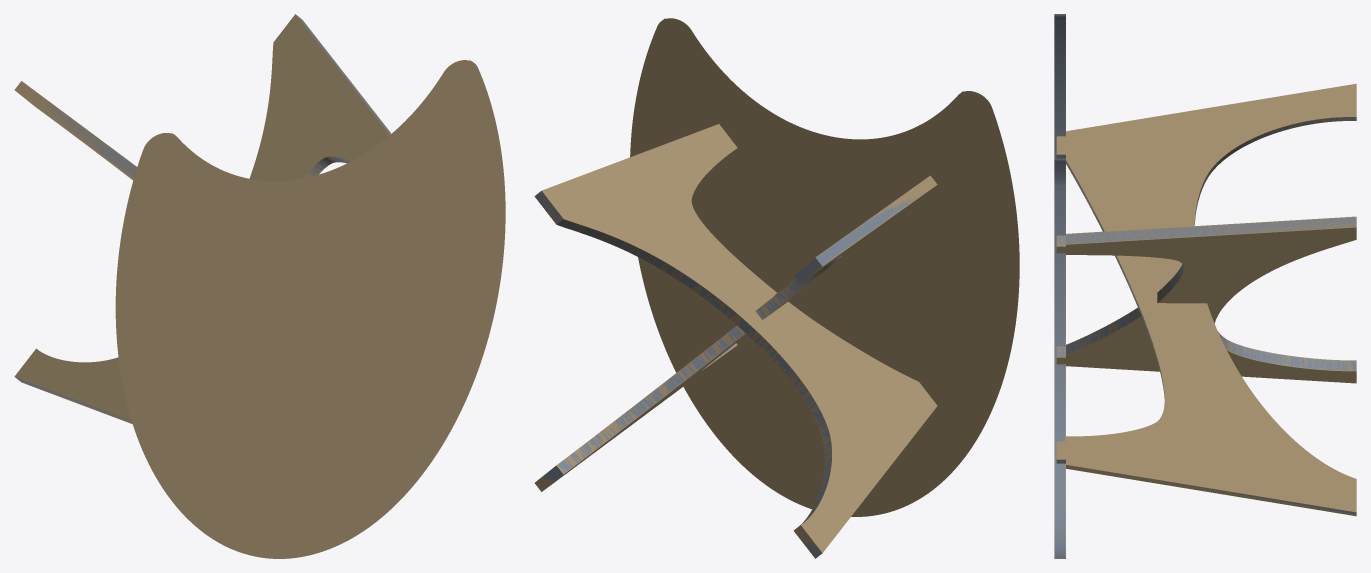
File: NODO_MESA_RATONA_EN_CRUZ_CUARZO_V6.glb
3 renders of one model, left to right at view 1: azimuth 30°, elevation 25°; view 2: azimuth 150°, elevation 25°; view 3: azimuth 270°, elevation 25°, orthographic.
Visible parts, largest first — view 1: Tapa_cantos, Pata_A_cantos, Pata_B_cantos, Pata_B_Kiri, Pata_A_Kiri; view 2: Tapa_cantos, Pata_A_cantos, Pata_B_cantos, Pata_B_Kiri, Pata_A_Kiri; view 3: Pata_B_cantos, Pata_A_cantos, Pata_A_Kiri, Tapa_Kiri, Pata_B_Kiri, Tapa_cantos.
Part boxes in pixels (bbox=[...]): Tapa_cantos: bbox=[115, 60, 505, 558]; Pata_A_cantos: bbox=[14, 14, 391, 423]; Pata_B_cantos: bbox=[14, 81, 137, 180]; Pata_B_Kiri: bbox=[36, 95, 136, 177]; Pata_A_Kiri: bbox=[15, 15, 390, 421]; Tapa_cantos: bbox=[630, 18, 1019, 516]; Pata_A_cantos: bbox=[534, 124, 937, 558]; Pata_B_cantos: bbox=[535, 175, 937, 491]; Pata_B_Kiri: bbox=[542, 194, 919, 479]; Pata_A_Kiri: bbox=[535, 151, 831, 558]; Pata_B_cantos: bbox=[1056, 83, 1356, 516]; Pata_A_cantos: bbox=[1056, 216, 1356, 383]; Pata_A_Kiri: bbox=[1056, 217, 1356, 370]; Tapa_Kiri: bbox=[1055, 14, 1065, 558]; Pata_B_Kiri: bbox=[1056, 117, 1356, 514]; Tapa_cantos: bbox=[1054, 14, 1065, 558].
Size of the model in its own units: 0.6924 by 0.7771 by 0.468.
